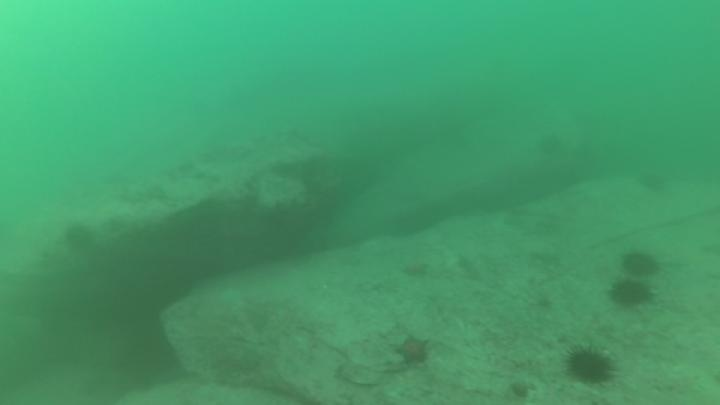echinus: (563, 342, 618, 387), (607, 276, 655, 311), (619, 247, 662, 279), (61, 220, 98, 256), (534, 129, 566, 160), (635, 167, 670, 195)
starfish: (391, 332, 433, 368), (399, 257, 432, 280)
